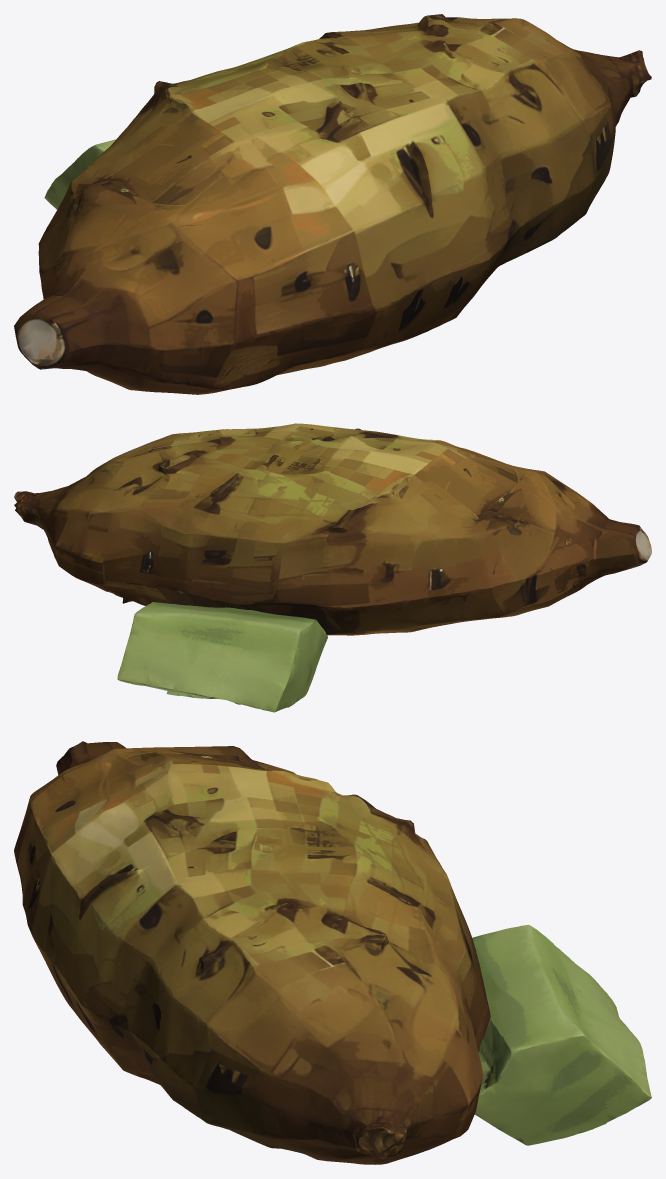
File: food_steamed_tuber.glb
3 renders of one model, top to bottom at view 1: azimuth 30°, elevation 25°; view 2: azimuth 150°, elevation 25°; view 3: azimuth 270°, elevation 25°, orthographic. The views are drawn at different scales.
Visible parts, largest first — view 1: food_steamed_tuber; view 2: food_steamed_tuber; view 3: food_steamed_tuber.
Boxes of the visible parts, left/top/right/bottom form: food_steamed_tuber: left=14, top=14, right=651, bottom=394; food_steamed_tuber: left=14, top=423, right=651, bottom=712; food_steamed_tuber: left=14, top=741, right=651, bottom=1164.
Size of the model in its own units: 0.25 by 0.0818 by 0.1784.
1 material, 1 textured.
